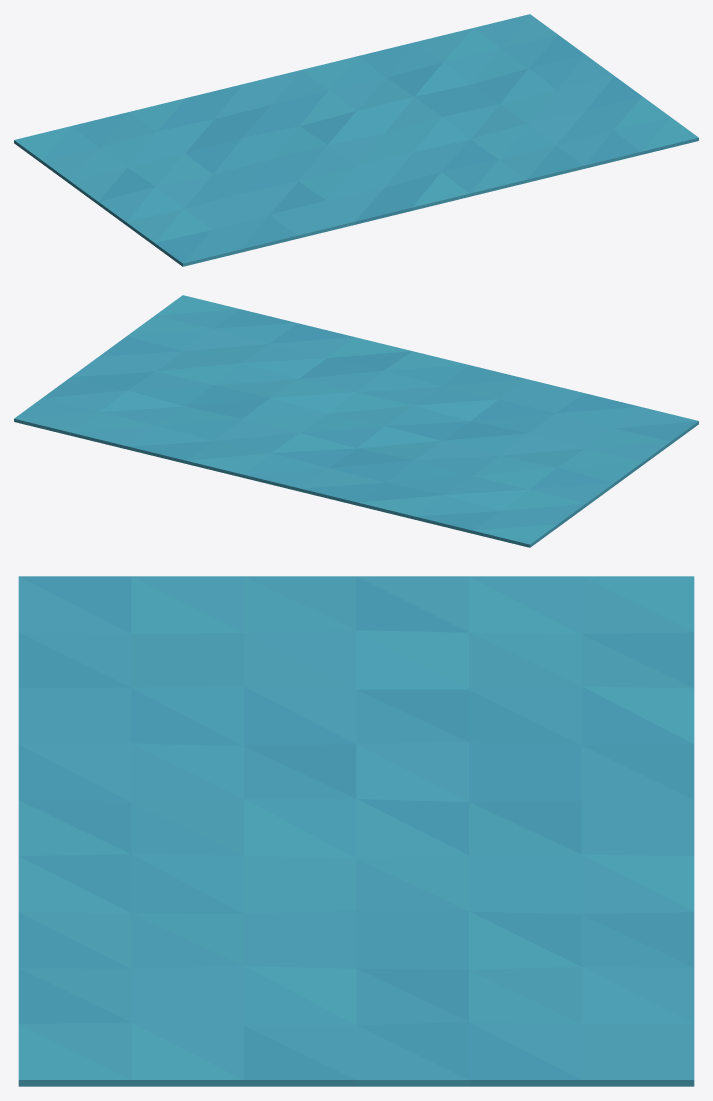
3 renders of one model, top to bottom at view 1: azimuth 30°, elevation 25°; view 2: azimuth 150°, elevation 25°; view 3: azimuth 270°, elevation 25°, orthographic. The views are drawn at different scales.
Parts seen in each view (by area): view 1: 独立海面.001; view 2: 独立海面.001; view 3: 独立海面.001.
Part boxes in pixels (box(x1,y1,x2,y2)): 独立海面.001: box(14, 14, 698, 266); 独立海面.001: box(14, 295, 698, 547); 独立海面.001: box(18, 576, 694, 1086).
Size of the model in its own units: 3 by 0.03 by 1.7.
